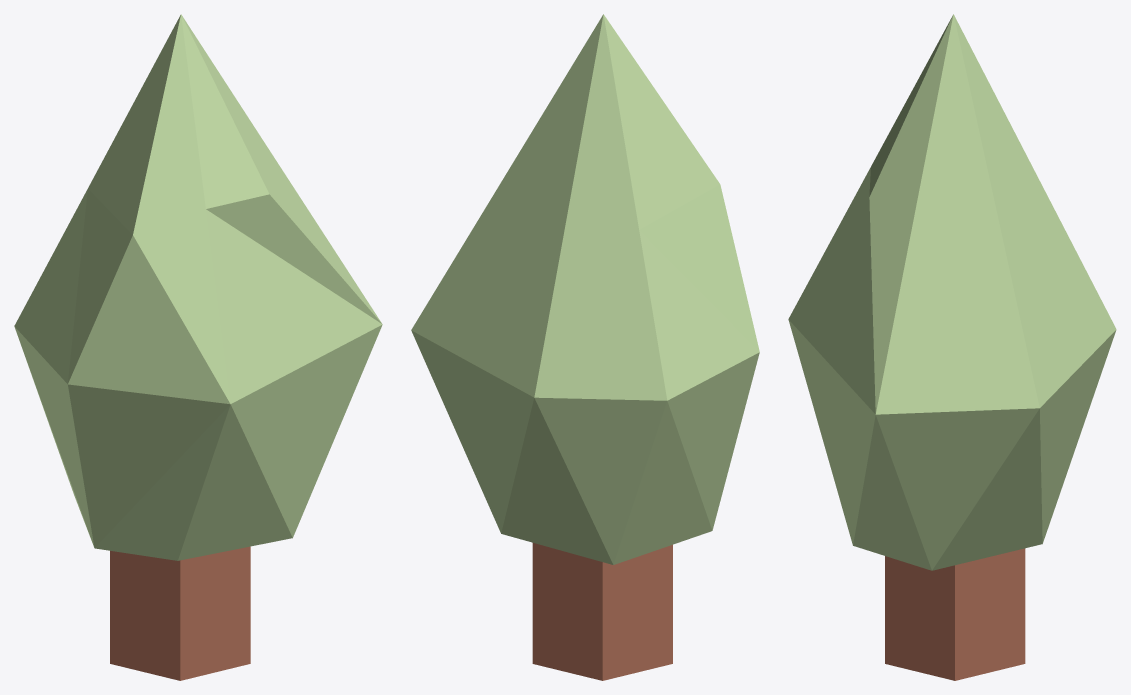
The model's file is shu1.obj.
3 views of the same model, side by side, from view 1: azimuth 30°, elevation 25°; view 2: azimuth 150°, elevation 25°; view 3: azimuth 270°, elevation 25° (orthographic).
Size of the model in its own units: 0.8465 by 1.72 by 0.8094.
